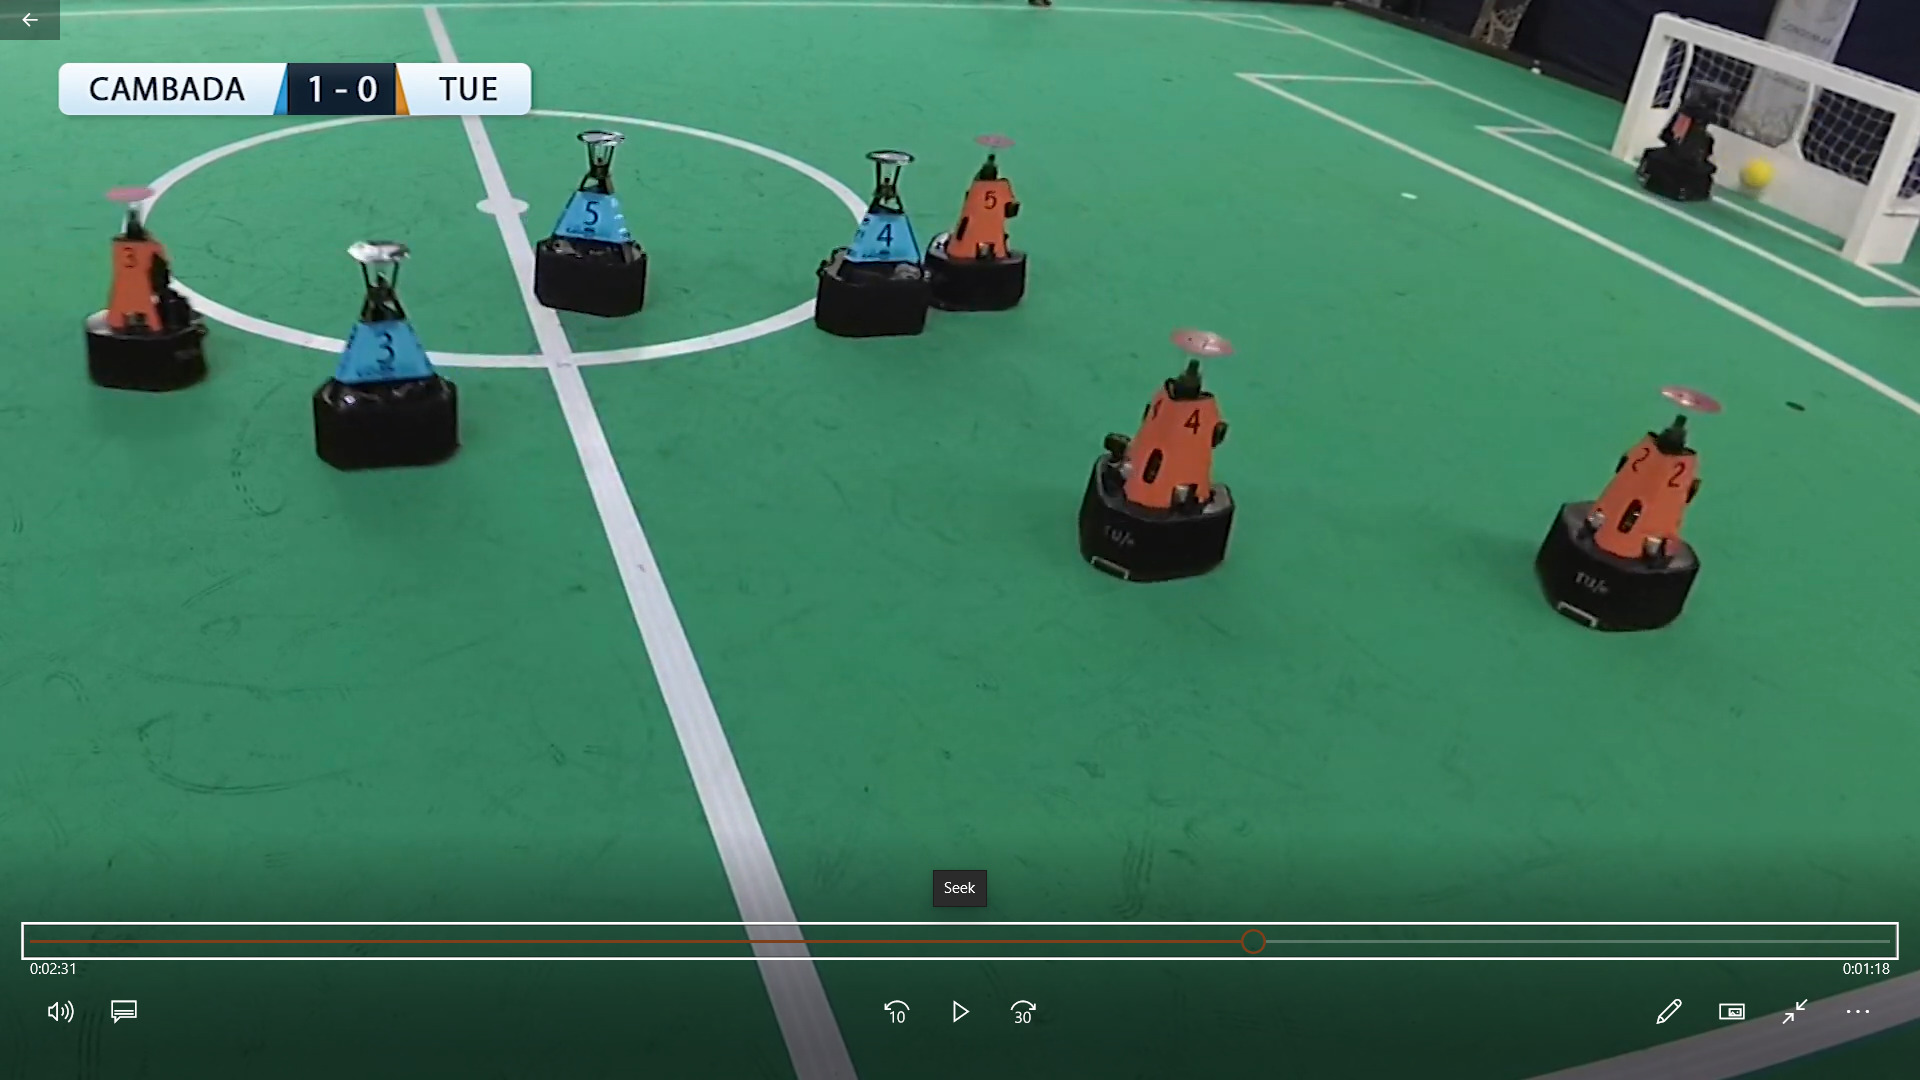BALL: (1738, 154, 1775, 191)
BLUE3: (276, 229, 476, 473)
BLUE4: (811, 140, 930, 347)
BLUE5: (533, 124, 644, 318)
RED2: (1530, 394, 1737, 636)
RED3: (65, 173, 224, 396)
RED4: (1059, 311, 1265, 588)
RED5: (924, 127, 1034, 320)
R_Goalie: (1639, 76, 1727, 204)
